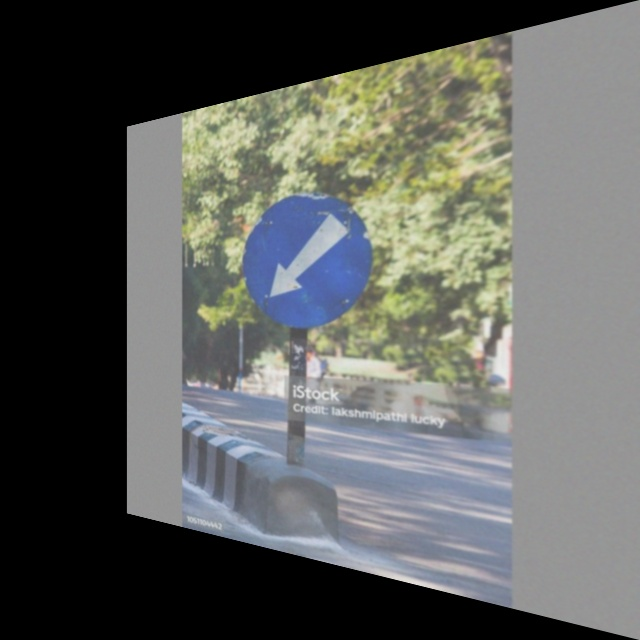Compulsory_Keep_Left: (238, 181, 381, 343)
